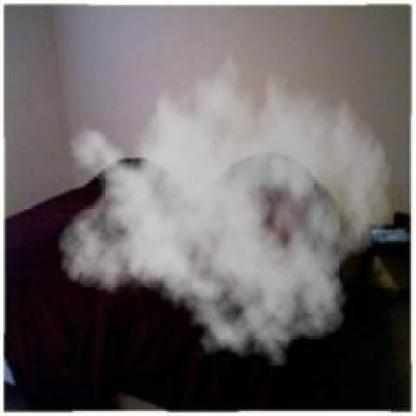Smoke: (55, 38, 392, 376)
